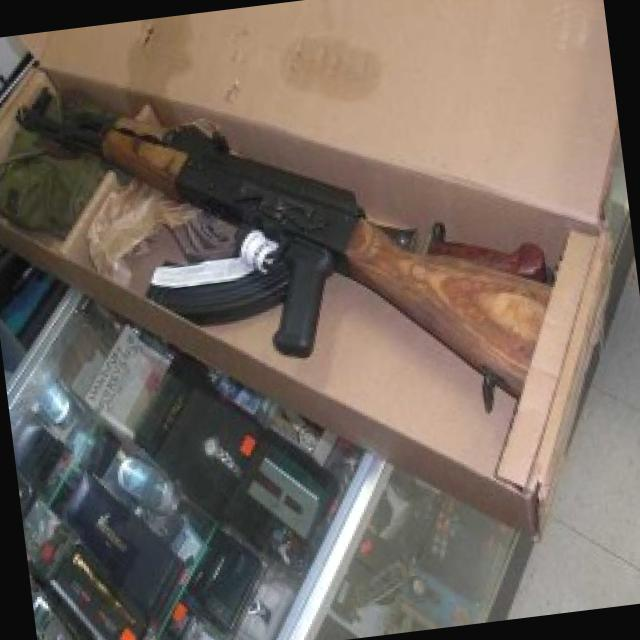long weapon: (10, 19, 574, 456)
